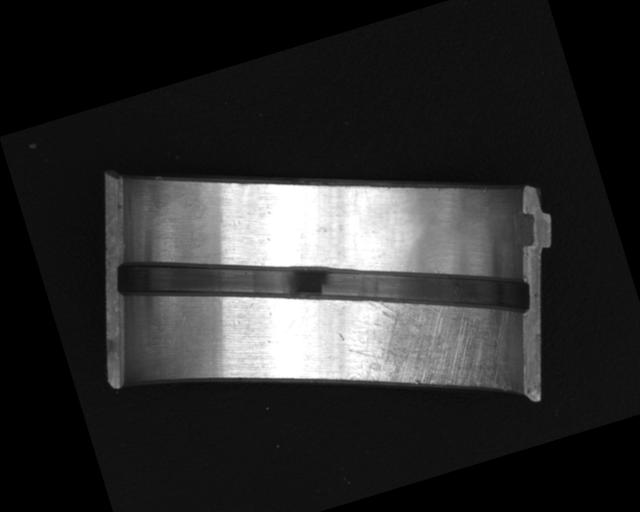gap: (110, 151, 535, 424)
scratch: (337, 264, 521, 428)
